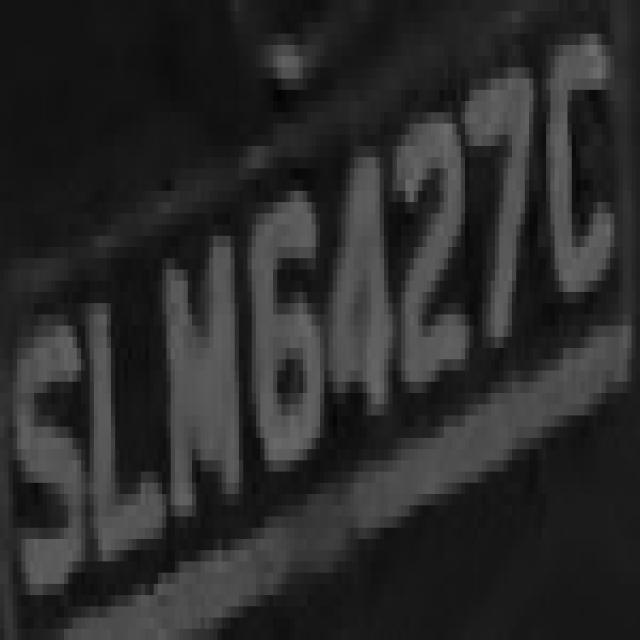2: (384, 78, 469, 438)
4: (324, 101, 397, 472)
6: (234, 180, 328, 494)
7: (452, 56, 538, 371)
C: (538, 11, 632, 337)
L: (76, 258, 170, 595)
M: (158, 191, 239, 561)
S: (4, 292, 77, 629)
